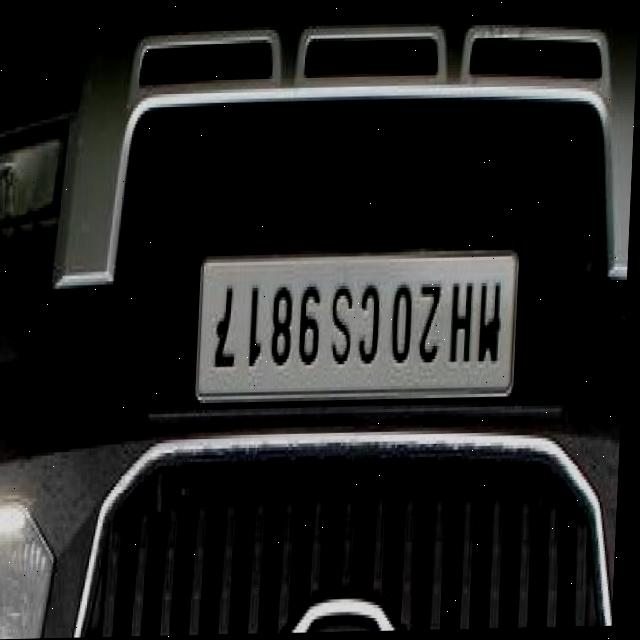plate: (197, 252, 526, 411)
